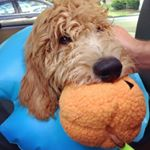puppy: (19, 1, 133, 124)
